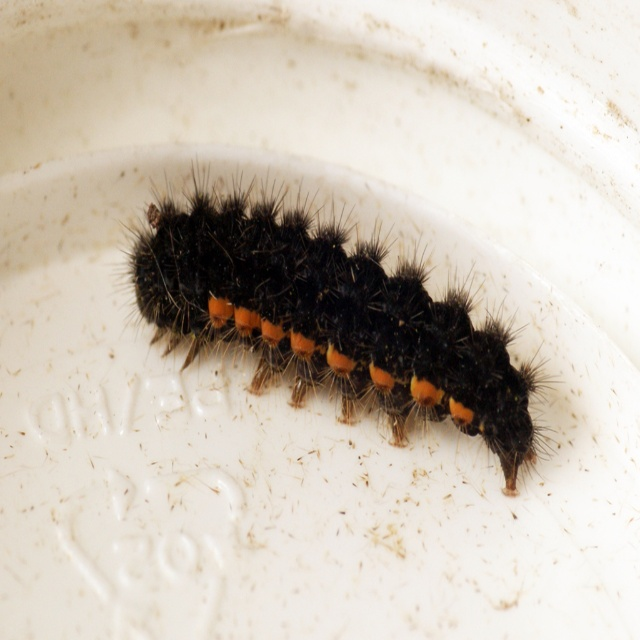Caterpillar: (121, 145, 551, 506)
